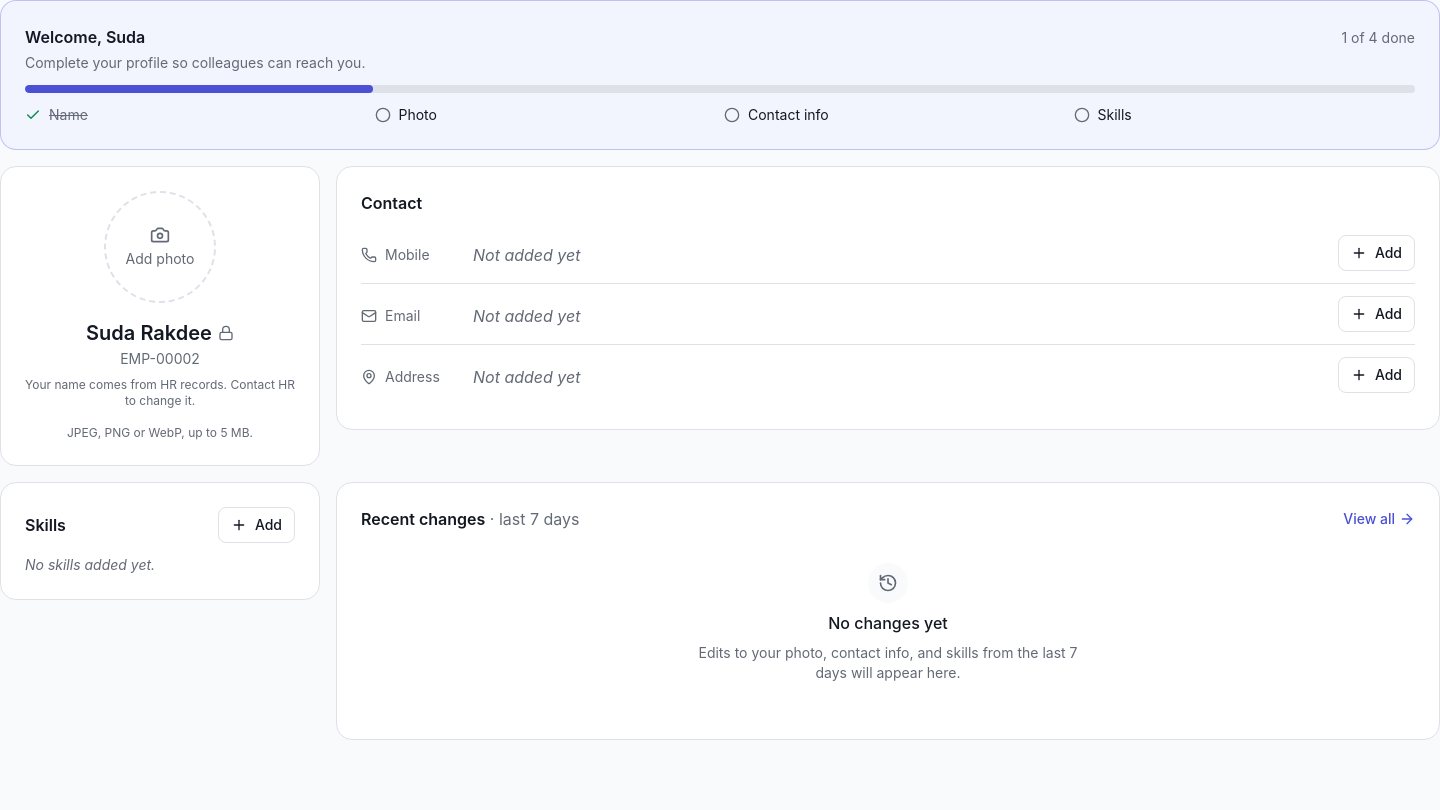
ProfilePage › shows the server message when it rejects a value
Click the button with aria-label "Add email".
click(1376, 314)  # box [1338,296,1415,332]
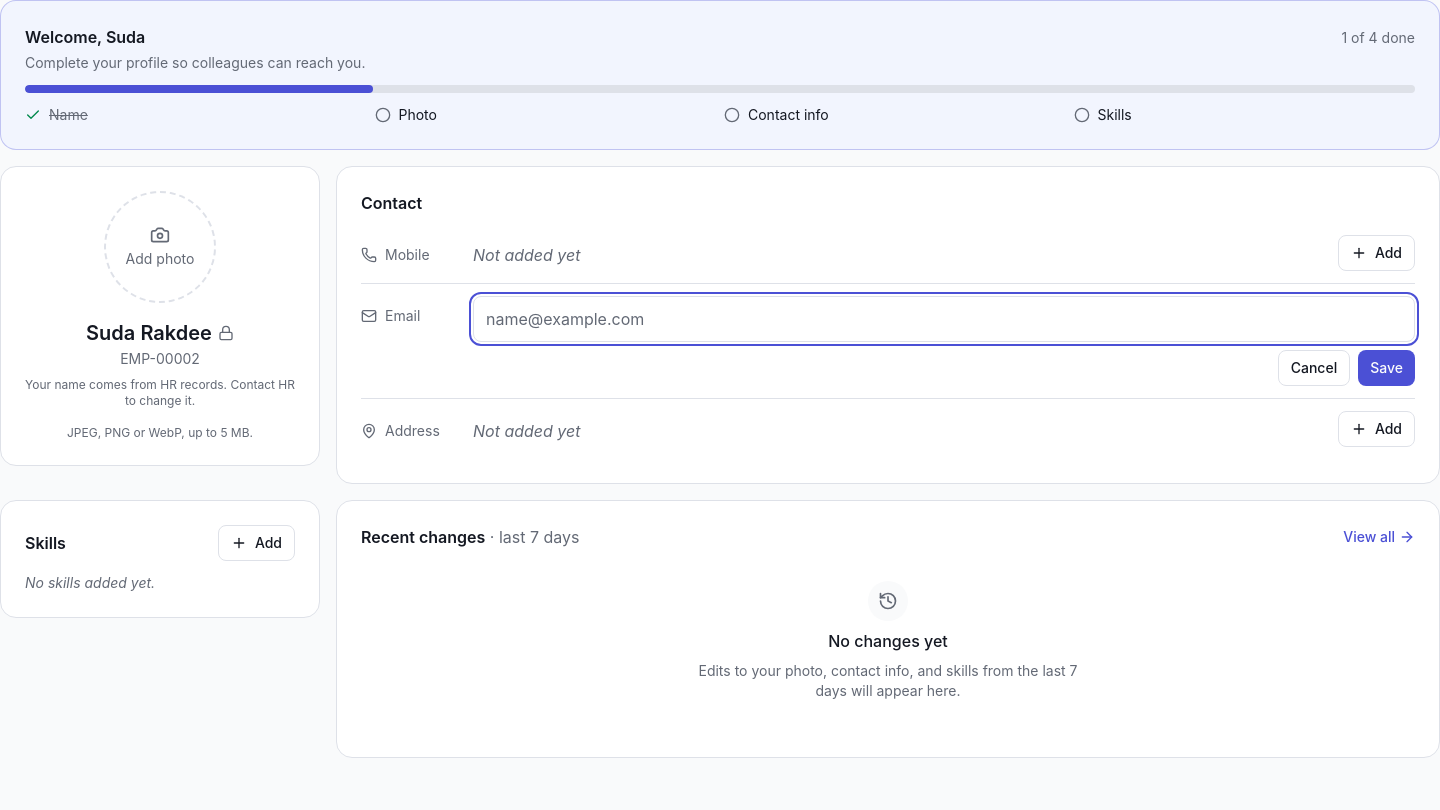
Type "a@b.co" into the field named "Email".
click(944, 319); type("a@b.co")  # box [473,296,1415,342]
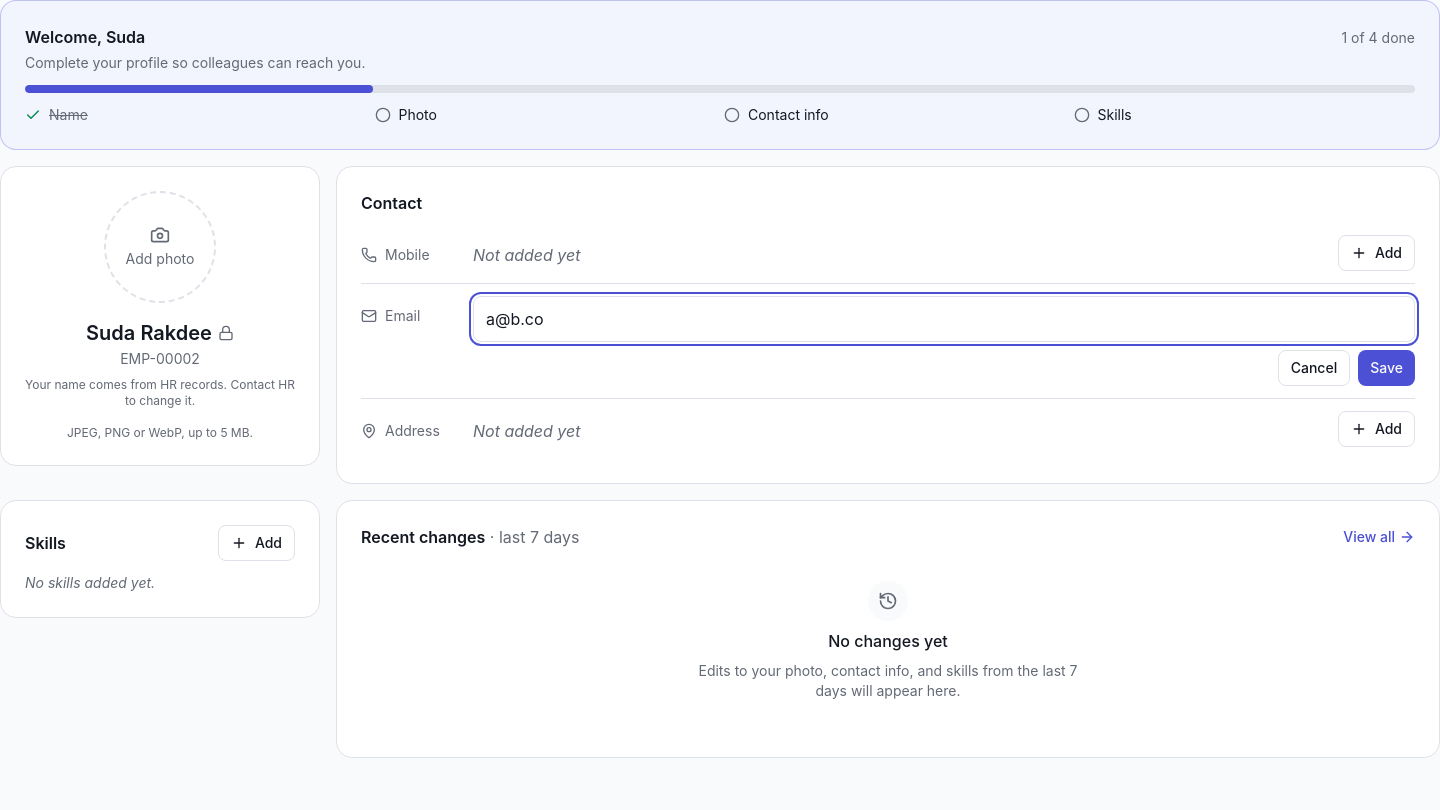
Click the button "Save".
click(1387, 368)  # box [1358,350,1415,386]
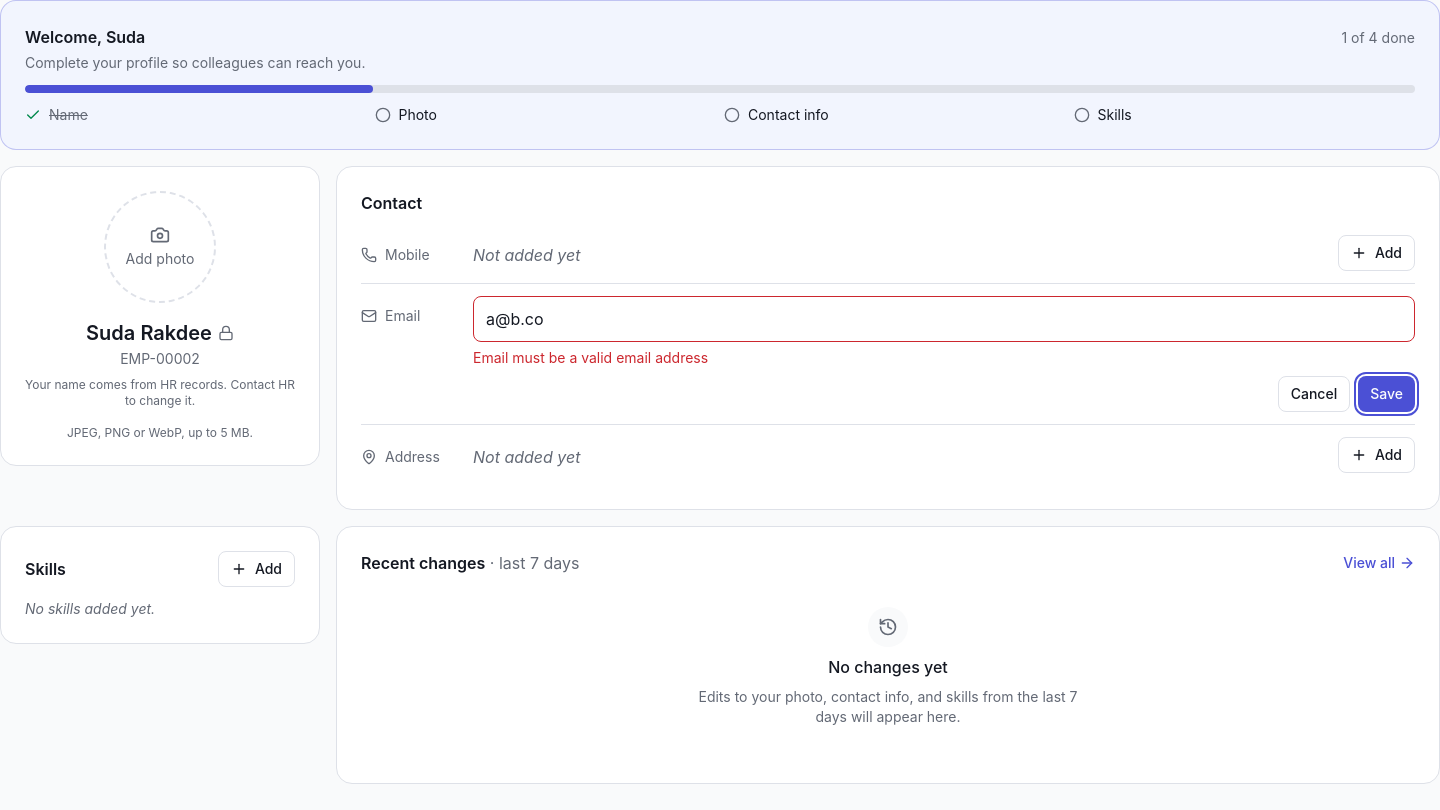
Now the text "Email must be a valid email address" is shown, box [473,349,708,366]
